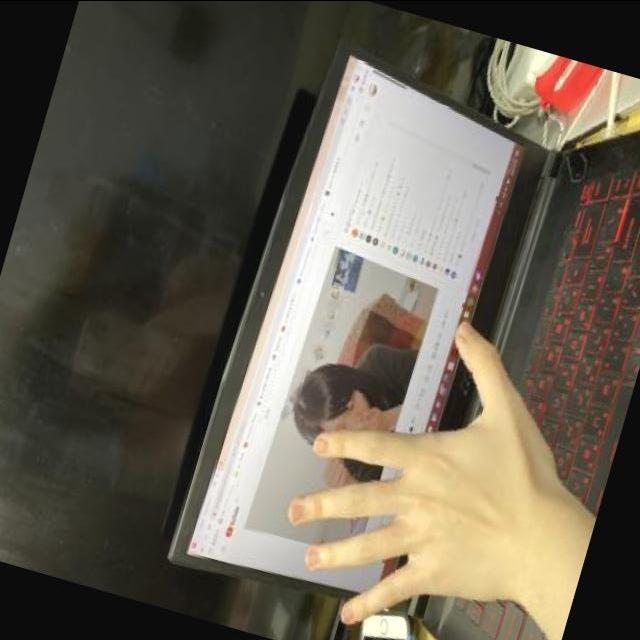hand: (238, 264, 622, 640)
